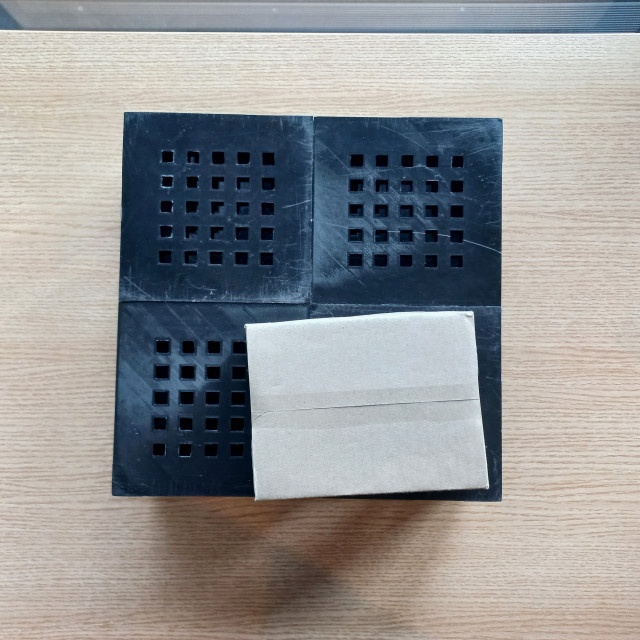box: (245, 307, 490, 501)
pallet: (114, 107, 506, 516)
